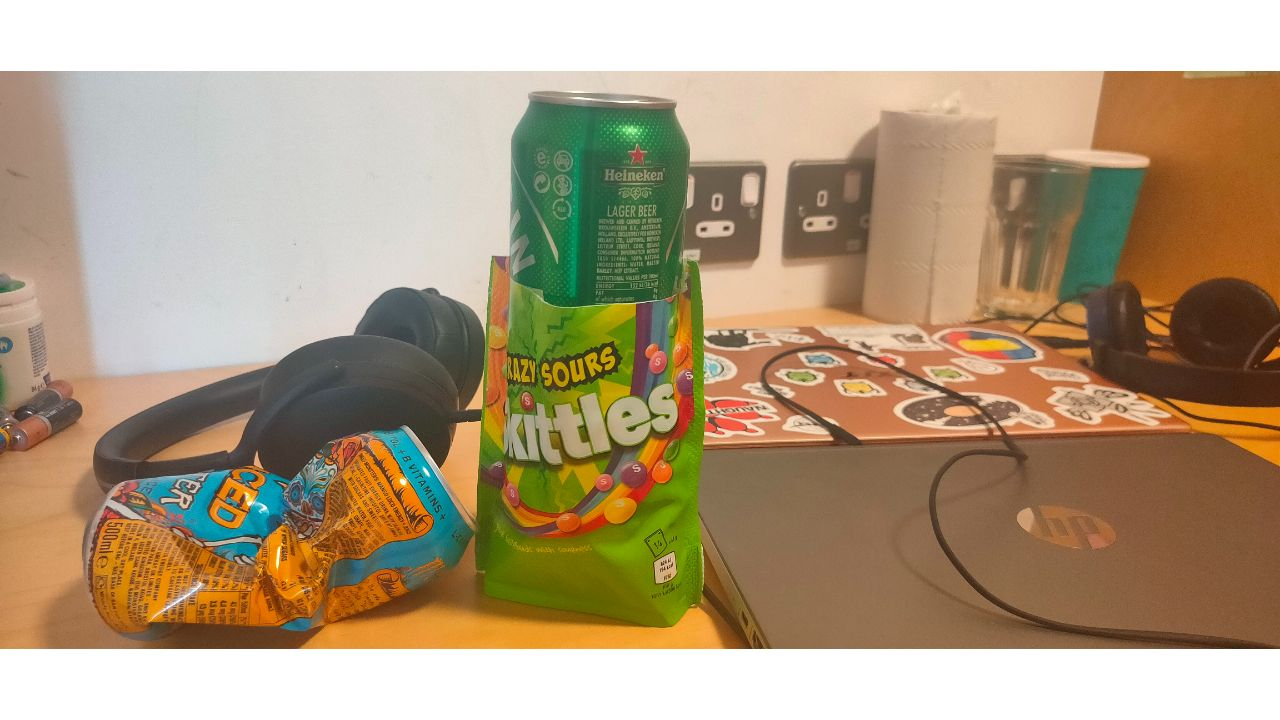Can: (79, 426, 476, 633), (508, 92, 694, 371)
